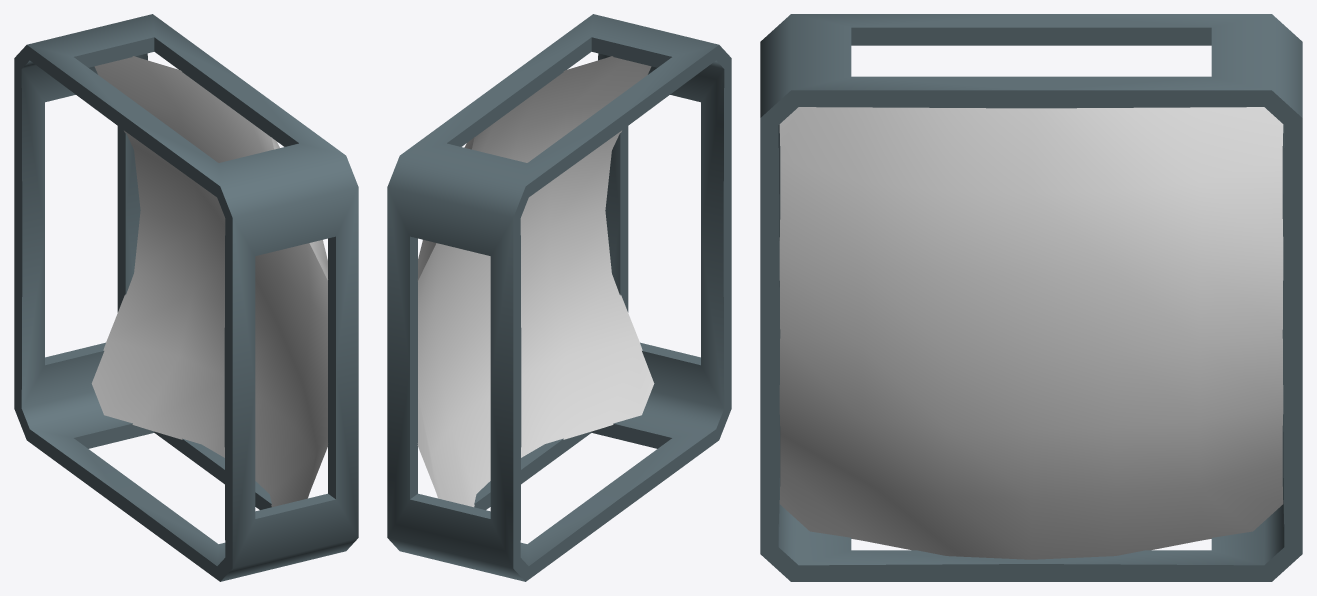
Rendered from fant_sail_frame_3x3.fbx.
3 renders of one model, left to right at view 1: azimuth 30°, elevation 25°; view 2: azimuth 150°, elevation 25°; view 3: azimuth 270°, elevation 25°, orthographic. The views are drawn at different scales.
Parts seen in each view (by area): view 1: fant_sail_frame_3x3; view 2: fant_sail_frame_3x3; view 3: fant_sail_frame_3x3.
Part boxes in pixels (x1,y1,x2,y2): fant_sail_frame_3x3: (14,14,358,581); fant_sail_frame_3x3: (387,14,731,581); fant_sail_frame_3x3: (760,14,1302,581).
Size of the model in its own units: 125 by 300 by 300.
